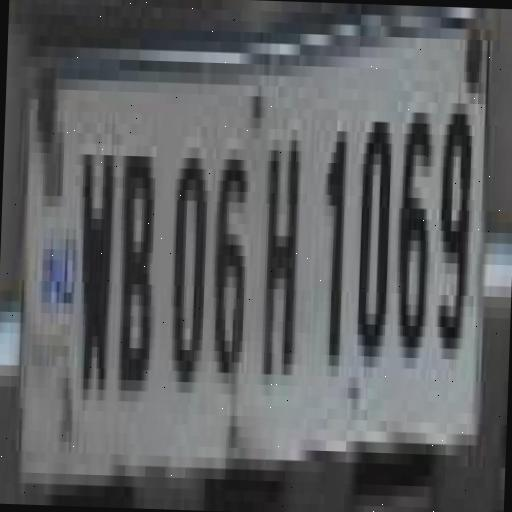number plate: (0, 23, 495, 512)
